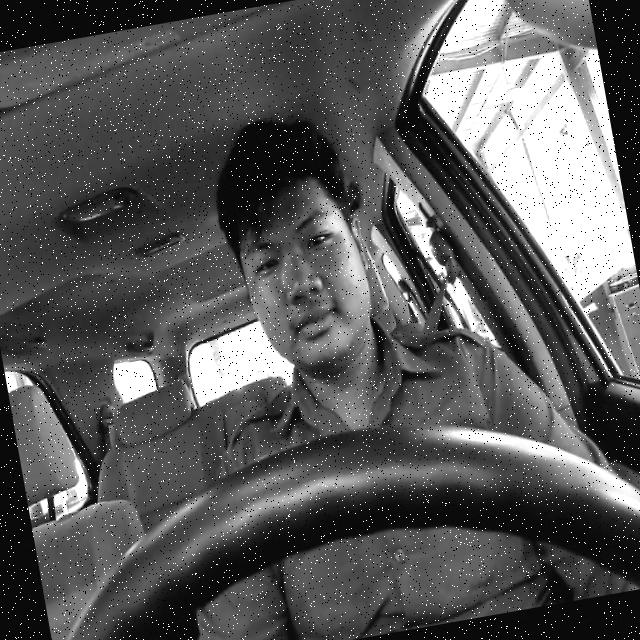focused: (224, 167, 382, 377)
